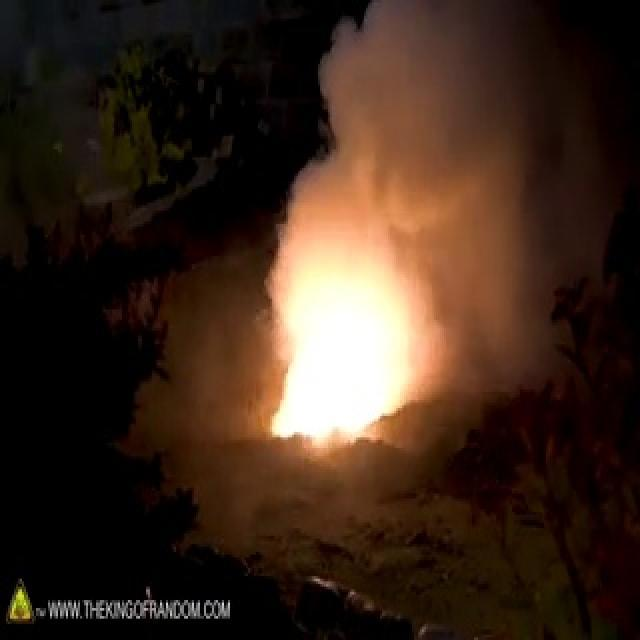fire: (274, 236, 398, 433)
